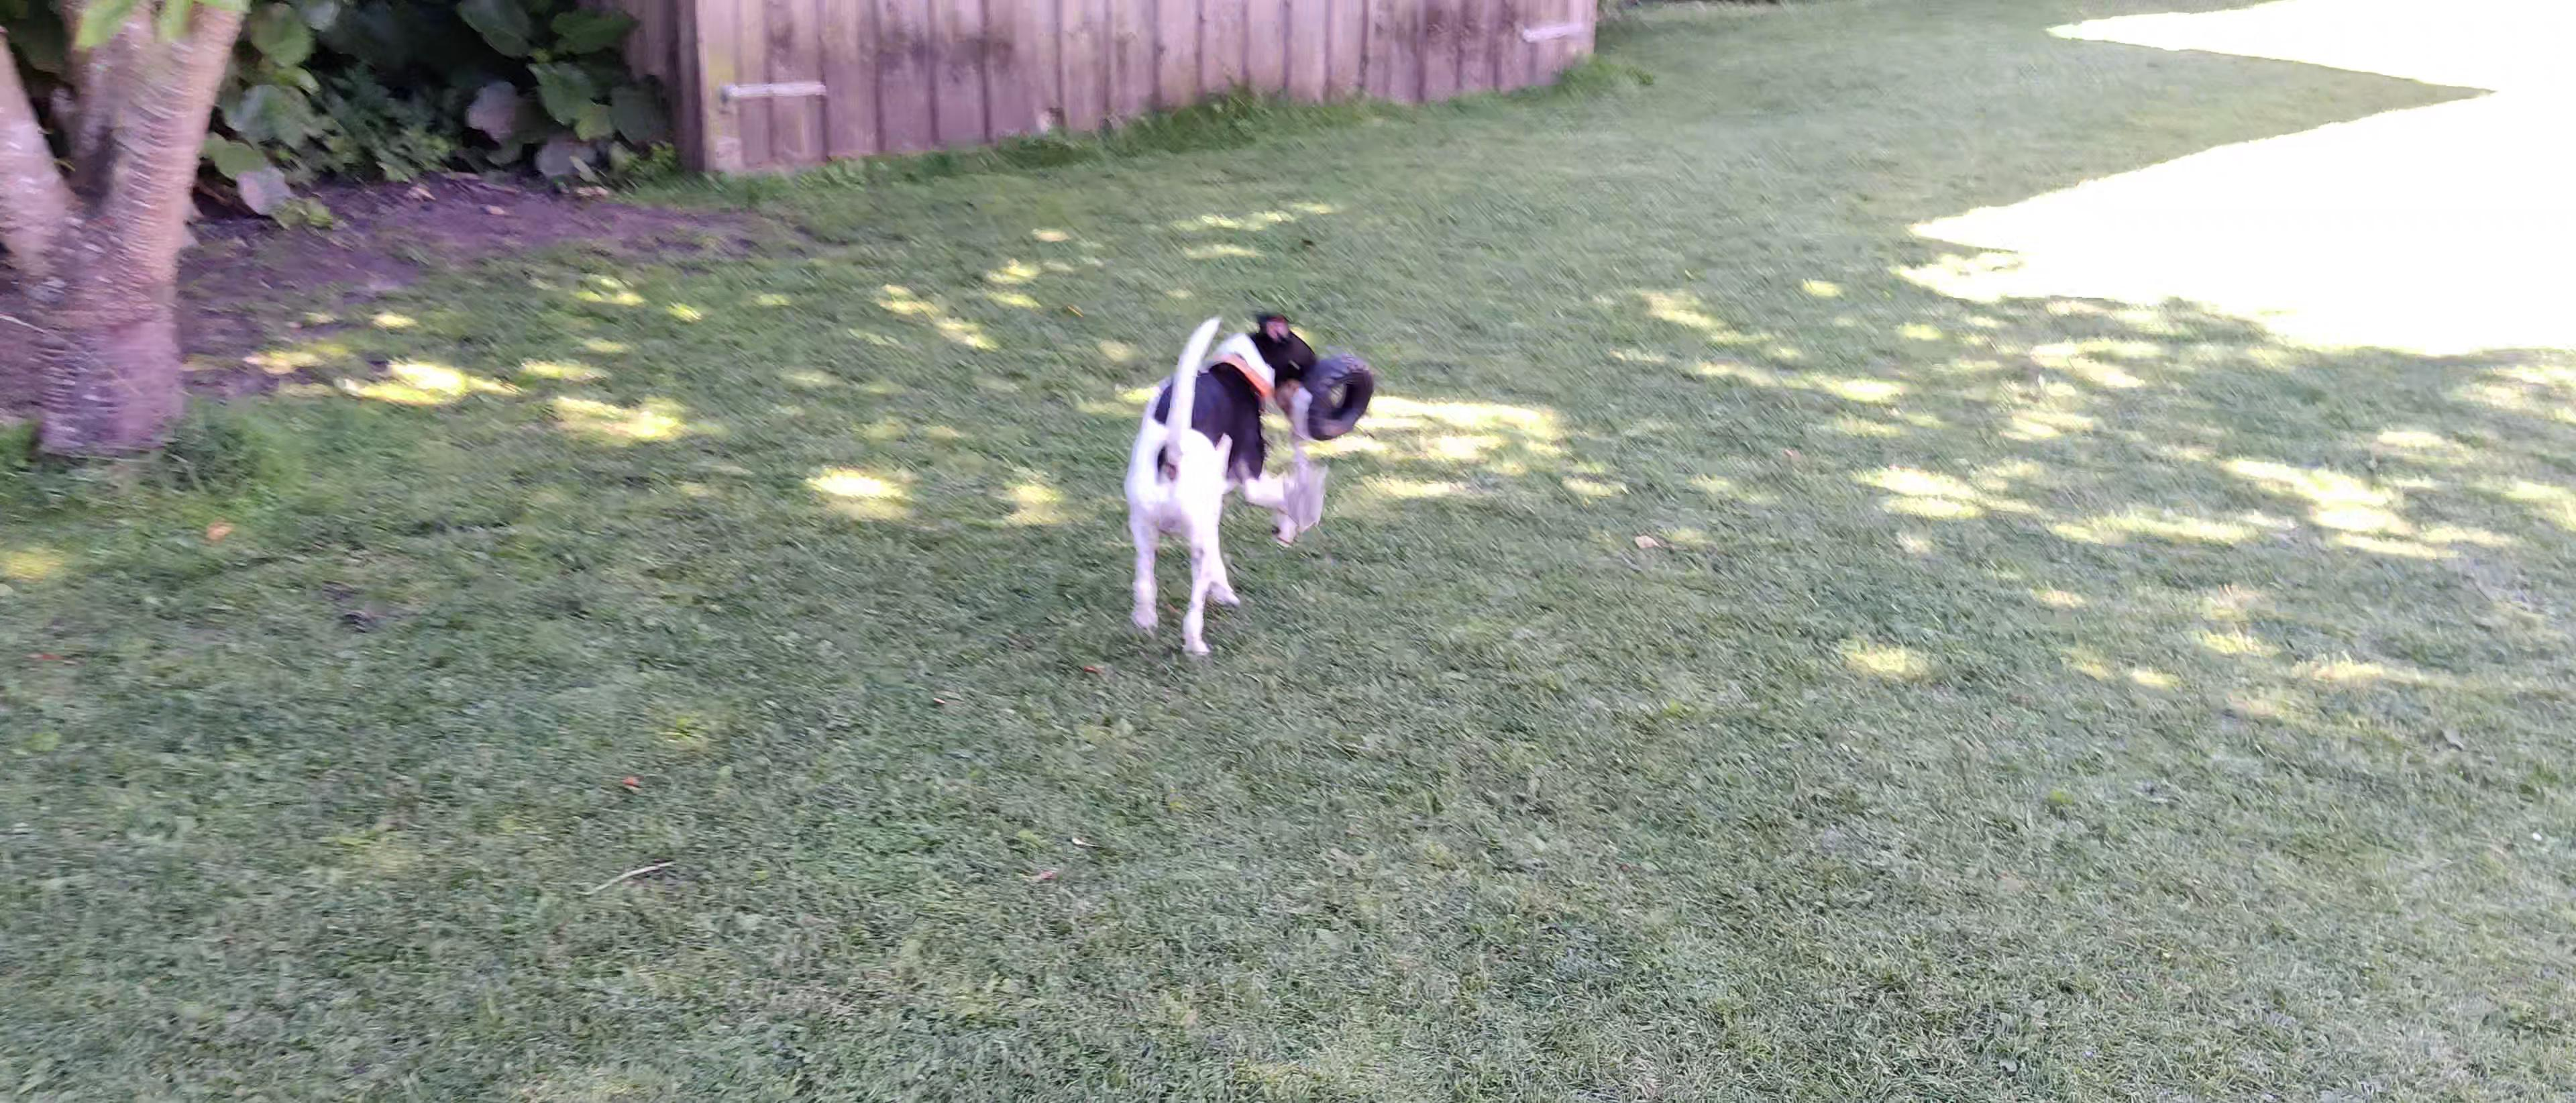Dog: (1115, 309, 1334, 666)
